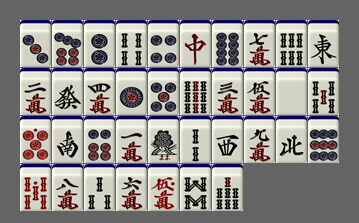0m: (148, 164, 179, 211)
0p: (20, 116, 51, 163)
0s: (20, 164, 51, 211)
1m: (116, 116, 147, 163)
1p: (116, 68, 147, 115)
1s: (148, 116, 179, 163)
1z: (308, 20, 339, 67)
2m: (20, 68, 51, 115)
2p: (84, 20, 115, 67)
2s: (180, 116, 211, 163)
2z: (52, 116, 83, 163)
3m: (212, 68, 243, 115)
3p: (20, 20, 51, 67)
3s: (84, 164, 115, 211)
3z: (212, 116, 243, 163)
4m: (84, 68, 115, 115)
4p: (148, 20, 179, 67)
4s: (116, 20, 147, 67)
4z: (276, 116, 307, 163)
5m: (244, 68, 275, 115)
5p: (148, 68, 179, 115)
5s: (308, 68, 339, 115)
5z: (276, 68, 307, 115)
6m: (116, 164, 147, 211)
6p: (84, 116, 115, 163)
6s: (276, 20, 307, 67)
6z: (52, 68, 83, 115)
7m: (244, 20, 275, 67)
7p: (52, 20, 83, 67)
7s: (212, 164, 243, 211)
7z: (180, 20, 211, 67)
8m: (52, 164, 83, 211)
8p: (212, 20, 243, 67)
8s: (180, 164, 211, 211)
9m: (244, 116, 275, 163)
9p: (308, 116, 339, 163)
9s: (180, 68, 211, 115)
